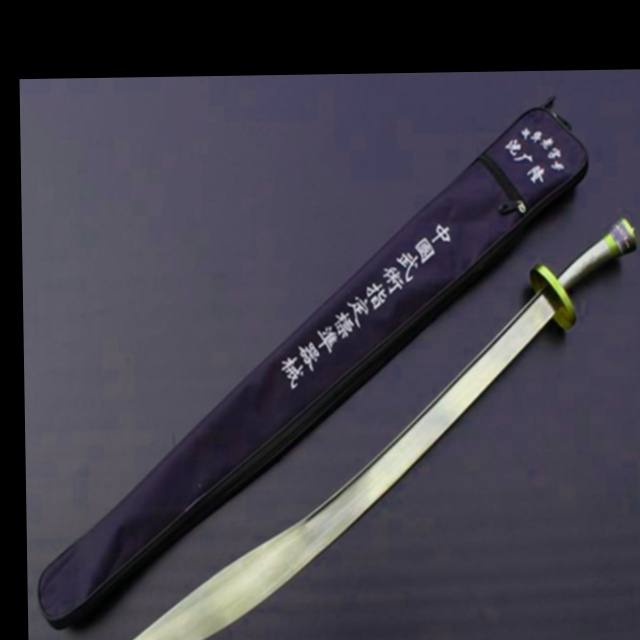Sharp-Object: (88, 214, 640, 640)
